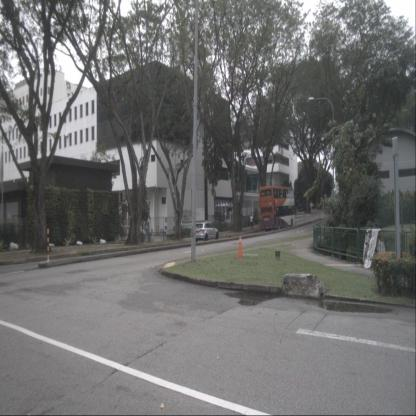human-pedestrian-adult: (250, 214, 253, 229)
movable_object-trafficcone: (237, 236, 243, 259)
vehicle-bus-rigid: (259, 185, 296, 232)
vehicle-car: (193, 223, 219, 242)
